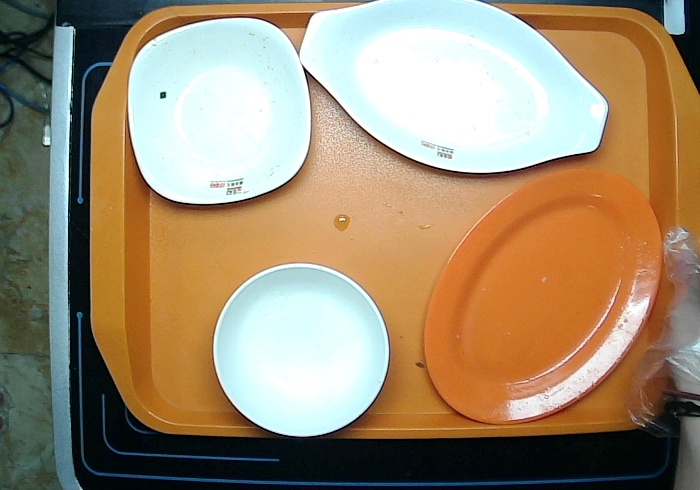NLDX-Bai_Se_Xiao_Fang_Die: (125, 15, 313, 205)
NLDX-Fan_Wan: (210, 259, 391, 438)
NLDX-Ju_Se_Pan: (422, 167, 664, 426)
NLDX-Yu_Pan: (298, 1, 610, 174)
